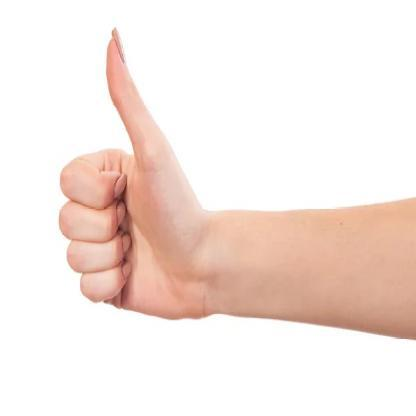thumb_up: (56, 23, 206, 340)
